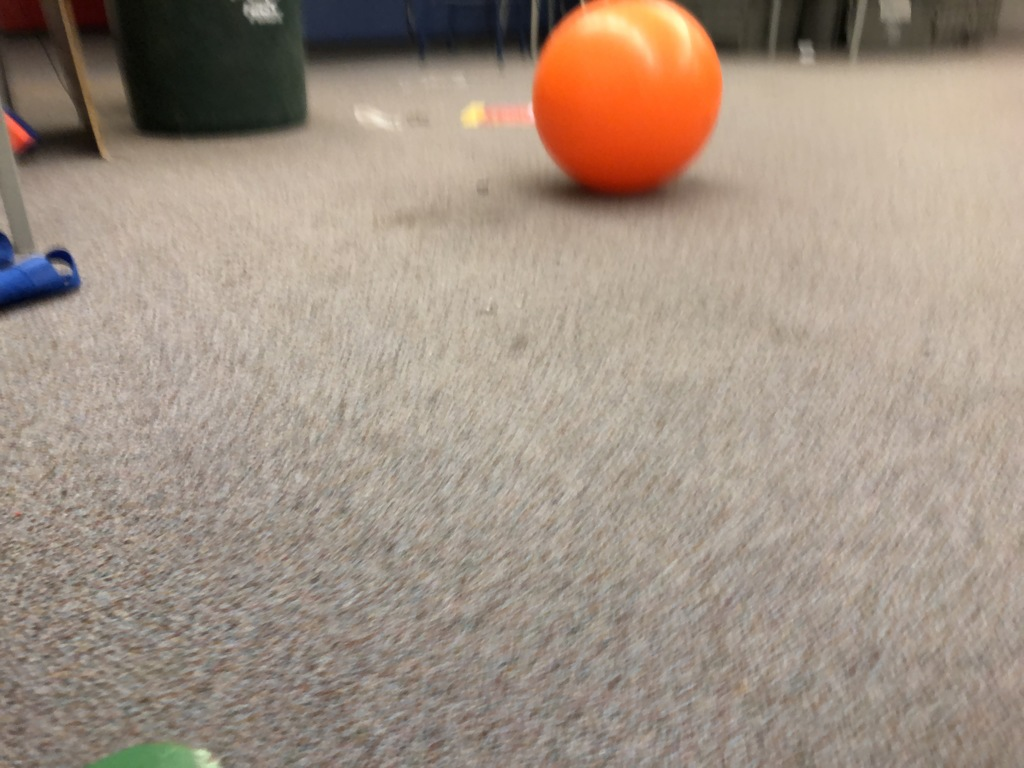cargo: (529, 1, 730, 210)
